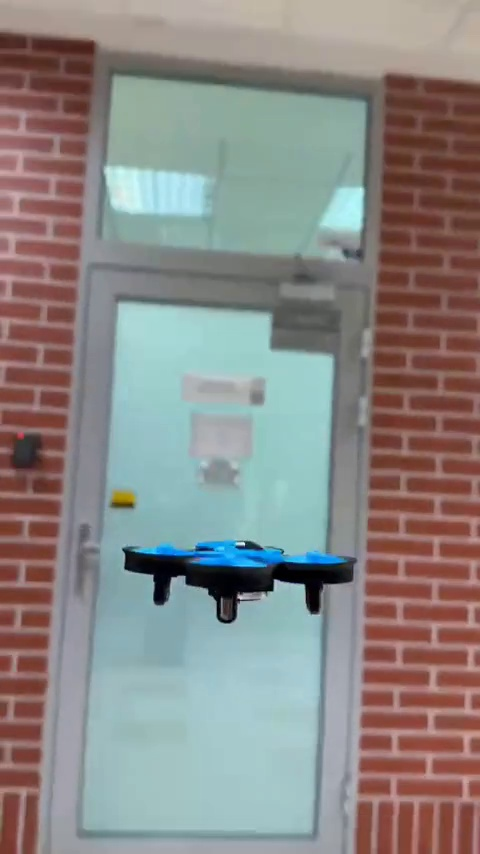drone: (122, 536, 360, 620)
